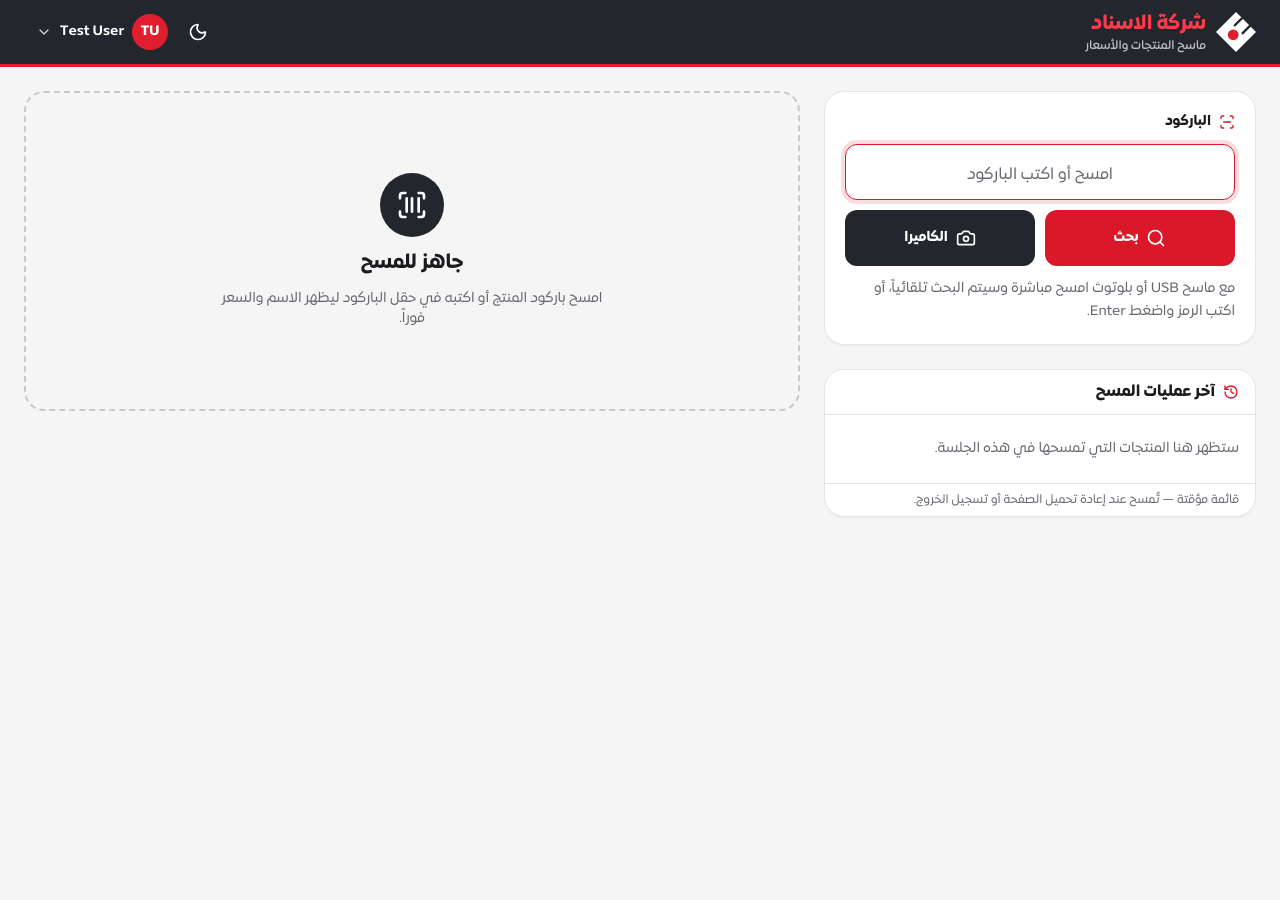
Test: ScannerPage › looks up on Enter (one request, not per keystroke), shows loading, then the product and price
This screenshot has width=1280, height=900.
Later steps or results of the test are not shown.
Type "0123456789012" into the field labelled "الباركود" at (1040, 172), box [845,144,1235,200]
Then press Enter
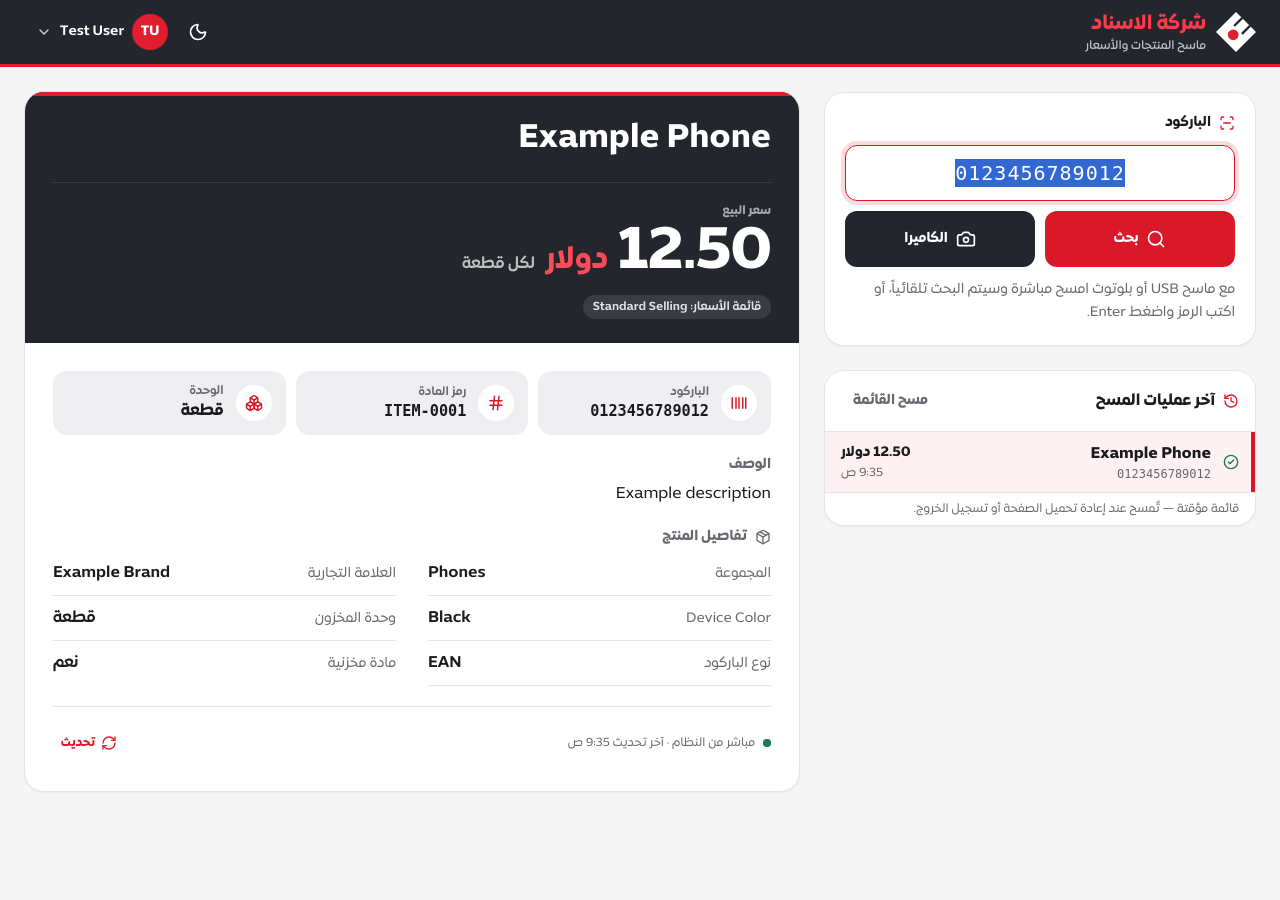
Now the heading "Example Phone" is shown, box [518,118,771,159]
Now the element with test id "price" shows "12.50", box [618,217,771,289]
Now the element with test id "price" shows "دولار", box [545,242,608,279]
